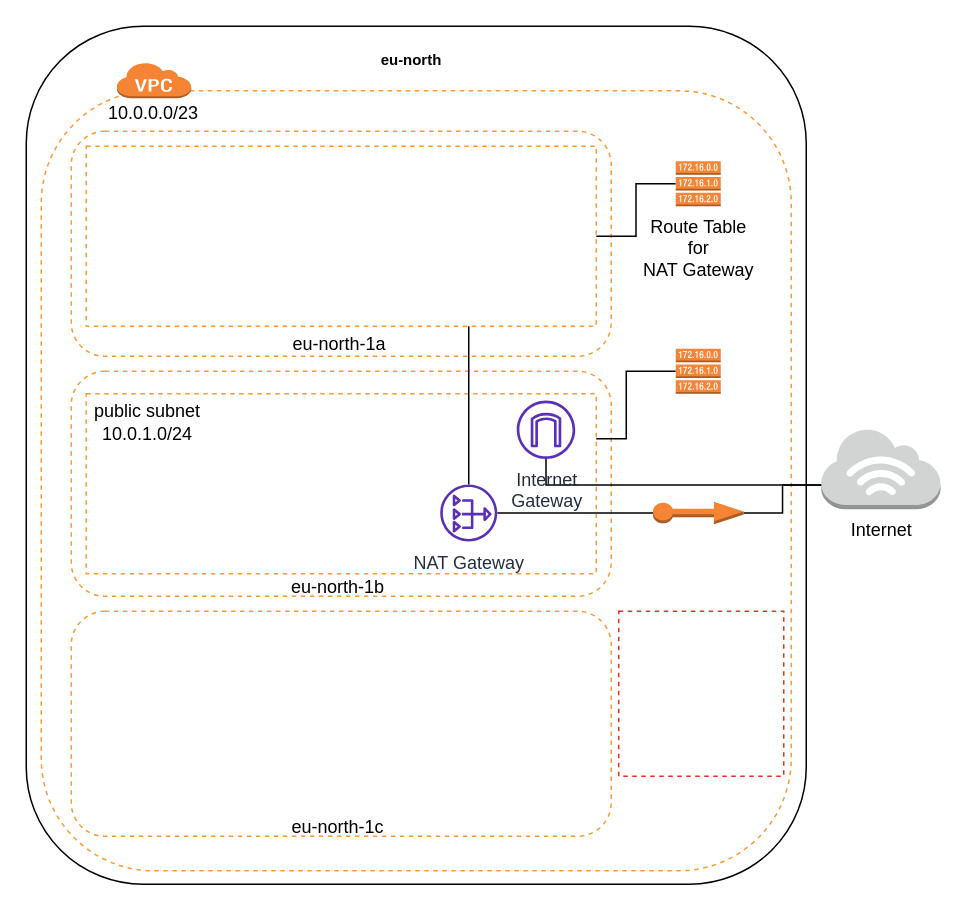
This 968x911 diagram has some shape labels left out. Each missing label, with the box of its shape:
Elastic IP for NAT Gateway: (651, 500, 744, 524)
private subnet 10.0.0.0/24: (85, 145, 596, 326)
Route Table for Internet Gateway: (674, 347, 721, 394)
Security group: (617, 610, 784, 776)
